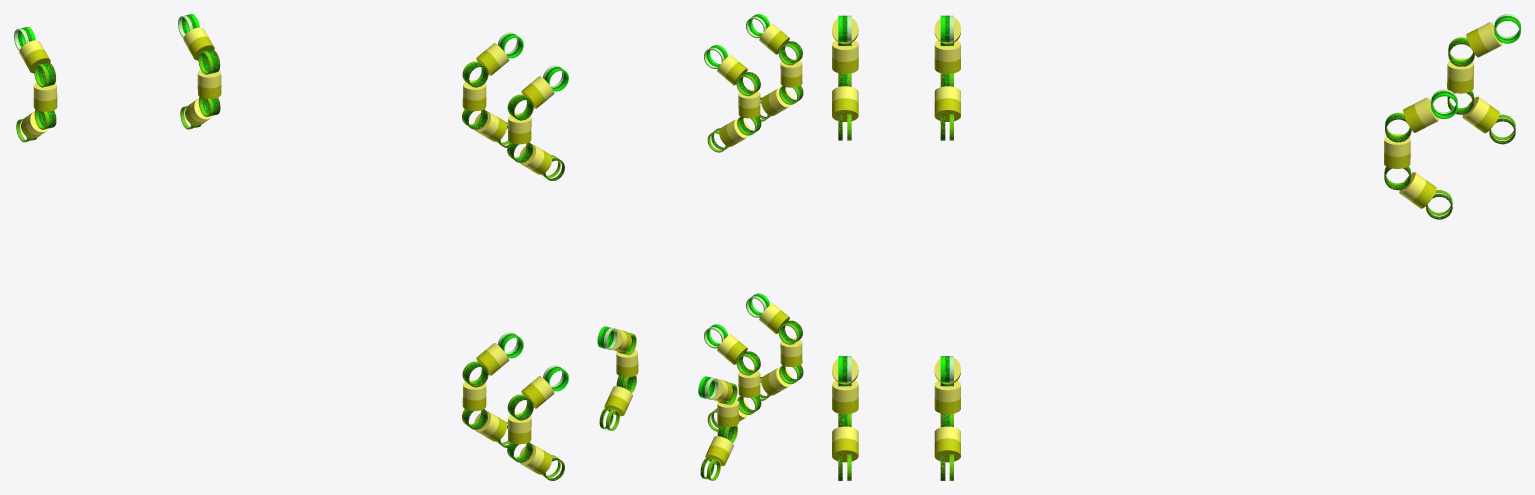
File: 09-SIMULATIONARMS.dae
3 views of the same model, side by side, from view 1: azimuth 30°, elevation 25°; view 2: azimuth 150°, elevation 25°; view 3: azimuth 270°, elevation 25° (orthographic). The views are drawn at different scales.
Parts seen in each view (by area): view 1: no part large enough to name; view 2: group_6 (×15), group_4 (×7), group_11 (×4); view 3: no part large enough to name.
Boxes of the visible parts, bbox=[...] form: group_6 (×15): bbox=[609, 24, 802, 454]; group_4 (×7): bbox=[604, 74, 802, 465]; group_11 (×4): bbox=[725, 31, 789, 364].
Size of the model in its own units: 31.91 by 64.69 by 48.16.
